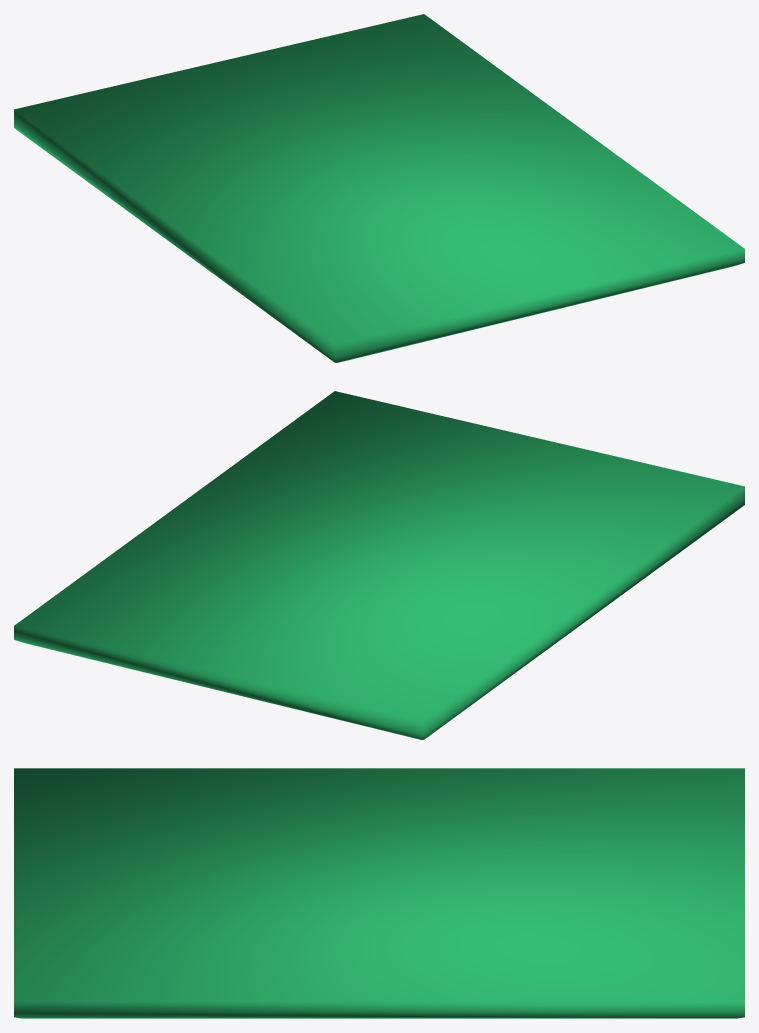
The picture shows the model from 3 angles, top to bottom: view 1: azimuth 30°, elevation 25°; view 2: azimuth 150°, elevation 25°; view 3: azimuth 270°, elevation 25°; orthographic projection. The views are drawn at different scales.
Parts seen in each view (by area): view 1: SpotifyWrapped; view 2: SpotifyWrapped; view 3: SpotifyWrapped.
Part boxes in pixels (left/top/right/bottom): SpotifyWrapped: left=14, top=14, right=744, bottom=362; SpotifyWrapped: left=14, top=391, right=744, bottom=739; SpotifyWrapped: left=14, top=768, right=744, bottom=1018.
Bounding box in the file's own units: 0.0949 × 0.0051 × 0.1286.
